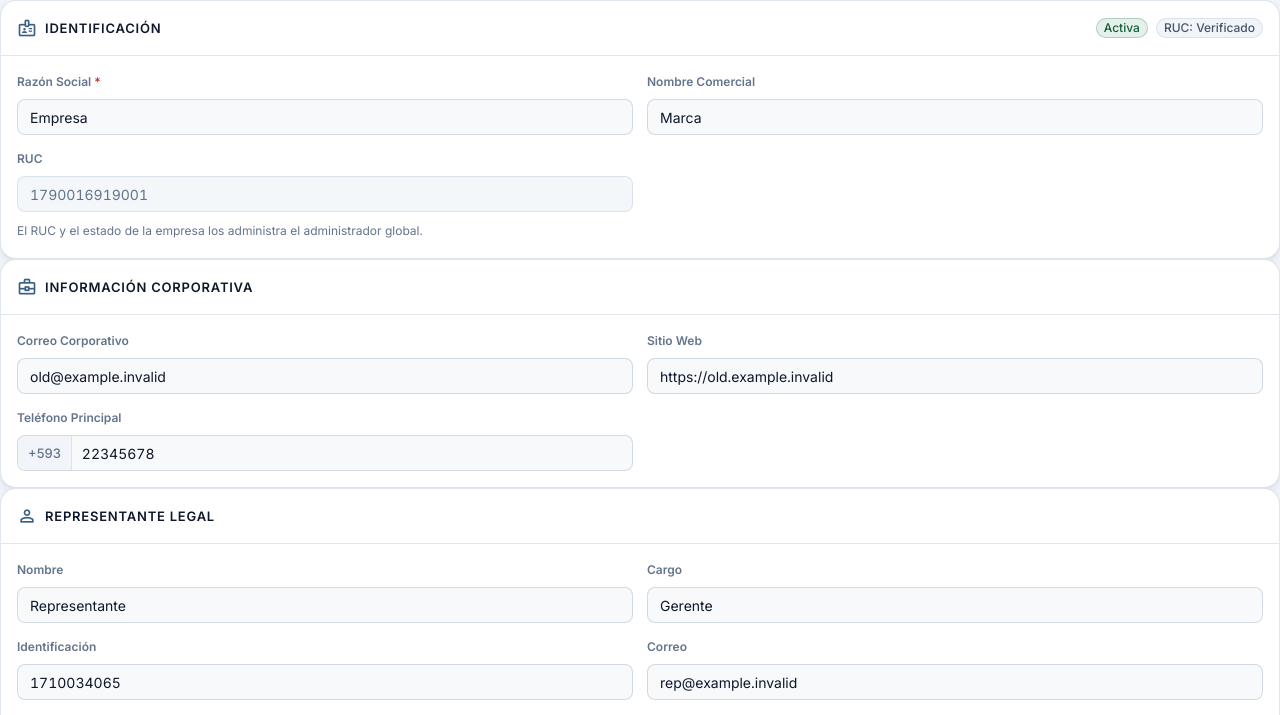
perfil completo y validación en es
Expected: the text "Información Corporativa" is shown, [45, 276, 253, 298]
Replace the text in the field showing "old@example.invalid" with "invalid" at (325, 376), box [17, 358, 633, 394]
(page scrolled)
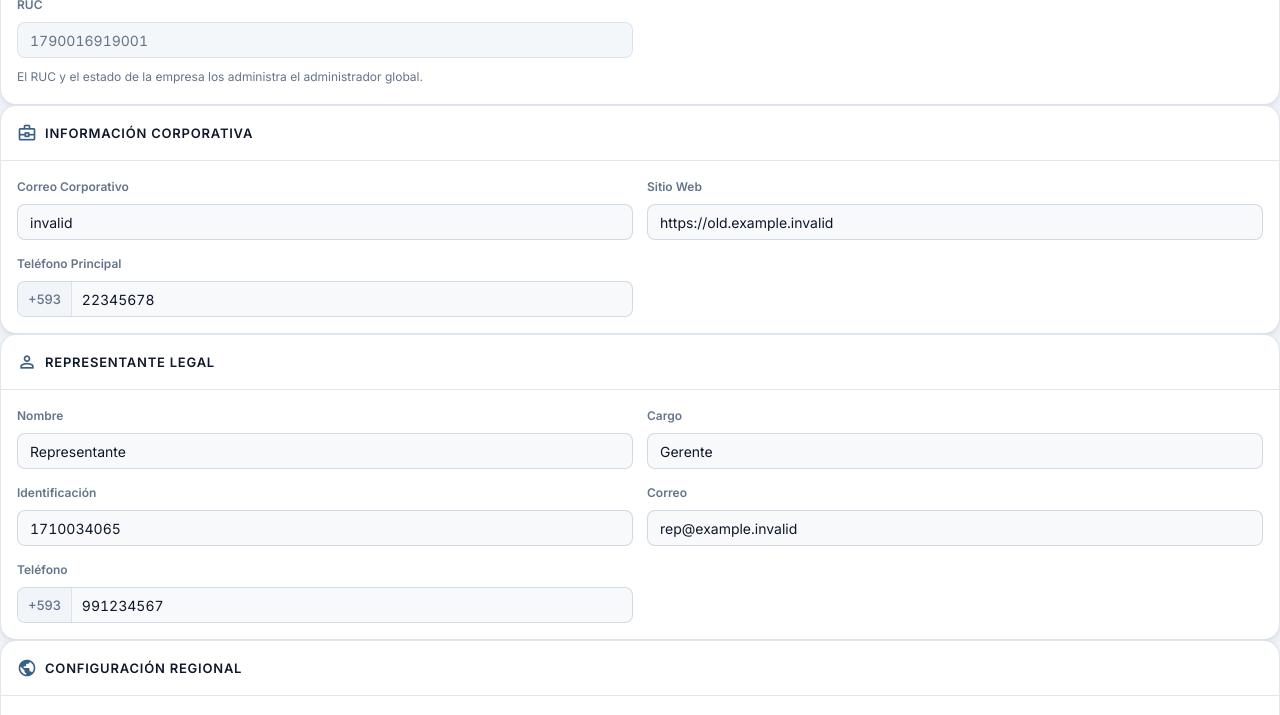
Submit the form
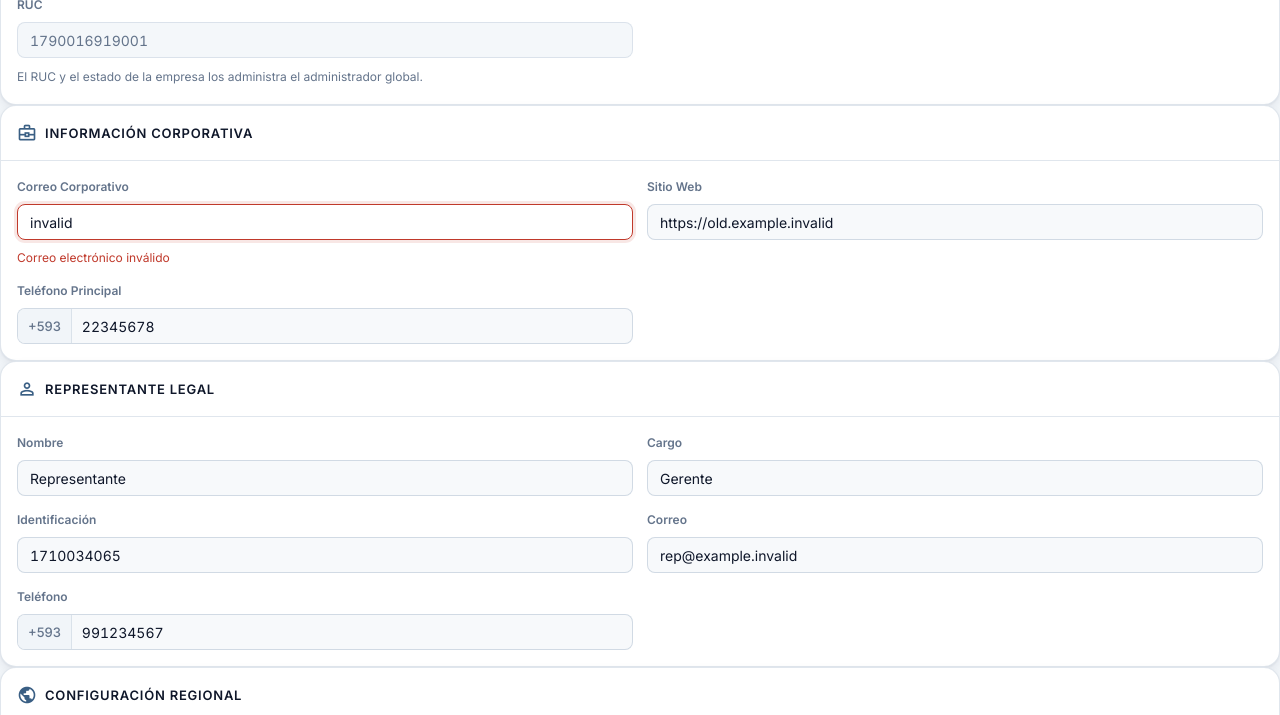
Now the text "Correo electrónico inválido" is shown, box [17, 250, 170, 265]
